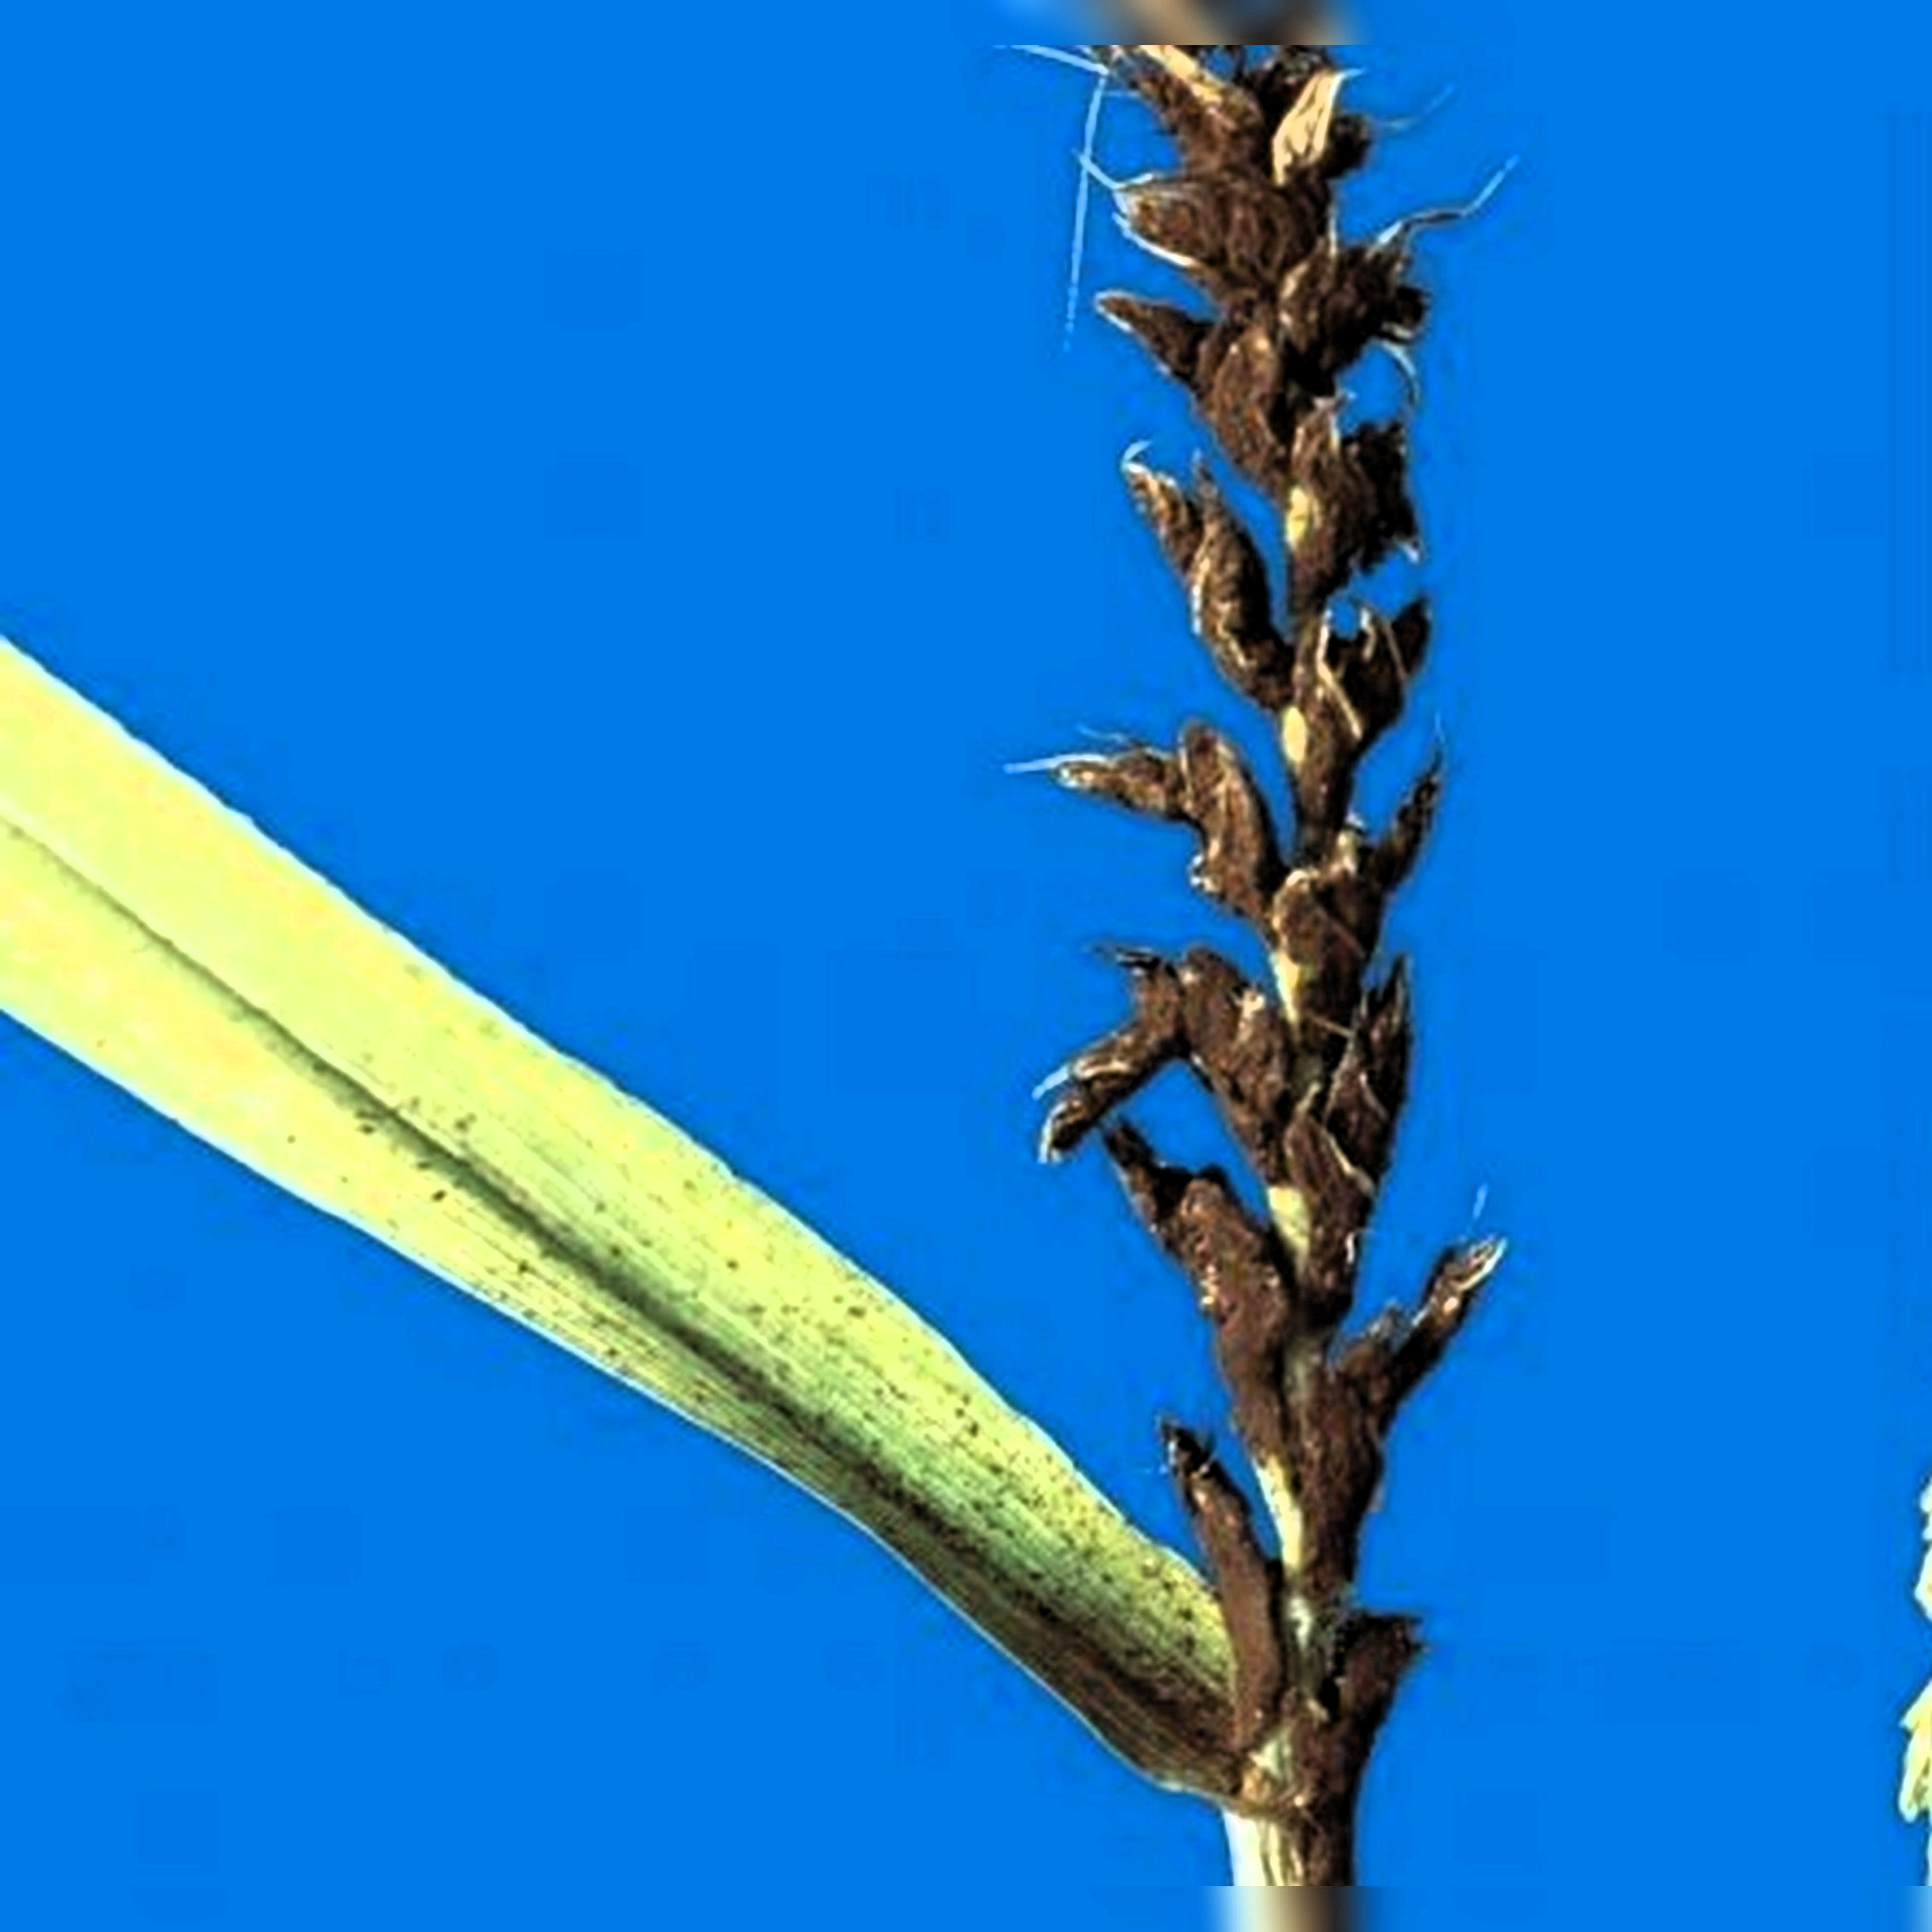Wheat Loose Smut: (998, 48, 1506, 1256)
